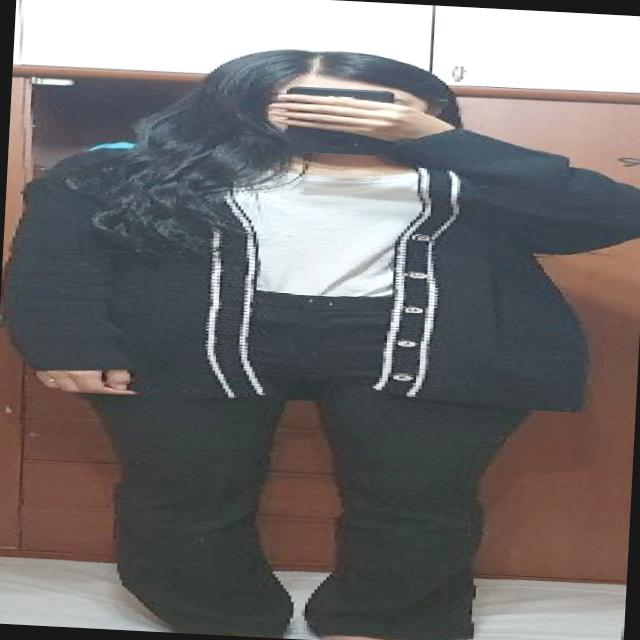cardigan: (1, 102, 640, 416)
denimpants: (66, 283, 539, 640)
